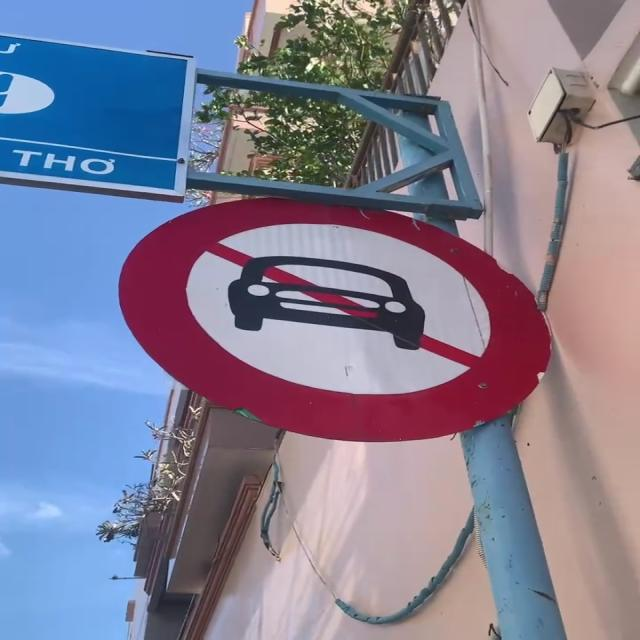Cam_O_To: (120, 191, 558, 447)
